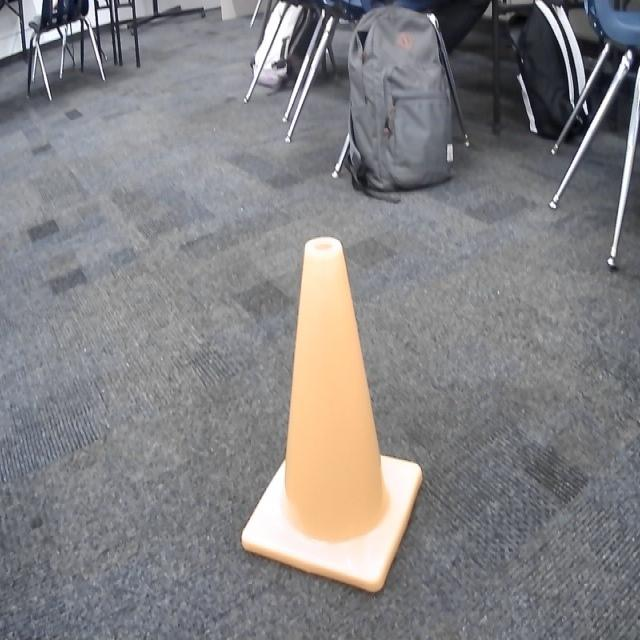cone: (234, 234, 426, 601)
